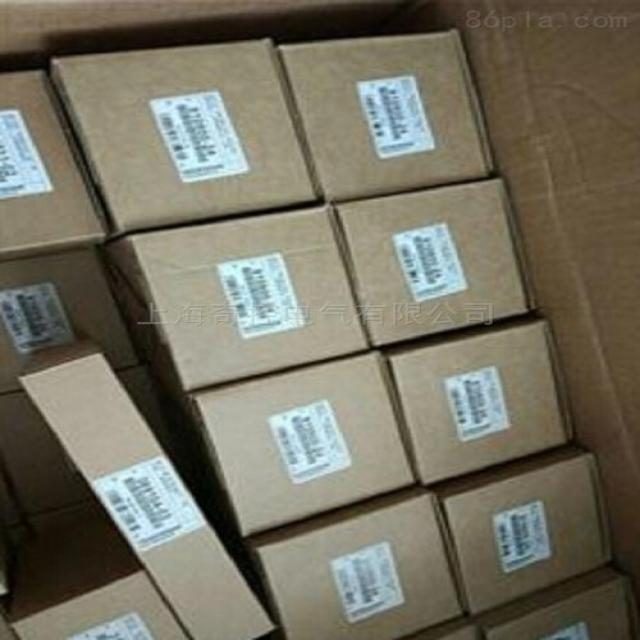box: (19, 338, 276, 639), (51, 39, 320, 241), (110, 204, 371, 397), (173, 352, 417, 539), (280, 31, 496, 204), (334, 178, 534, 348), (244, 486, 464, 639), (383, 322, 571, 488), (435, 449, 613, 617), (10, 515, 191, 639), (0, 245, 138, 395), (0, 70, 107, 261), (468, 566, 635, 639), (28, 500, 105, 534), (394, 615, 481, 638)
